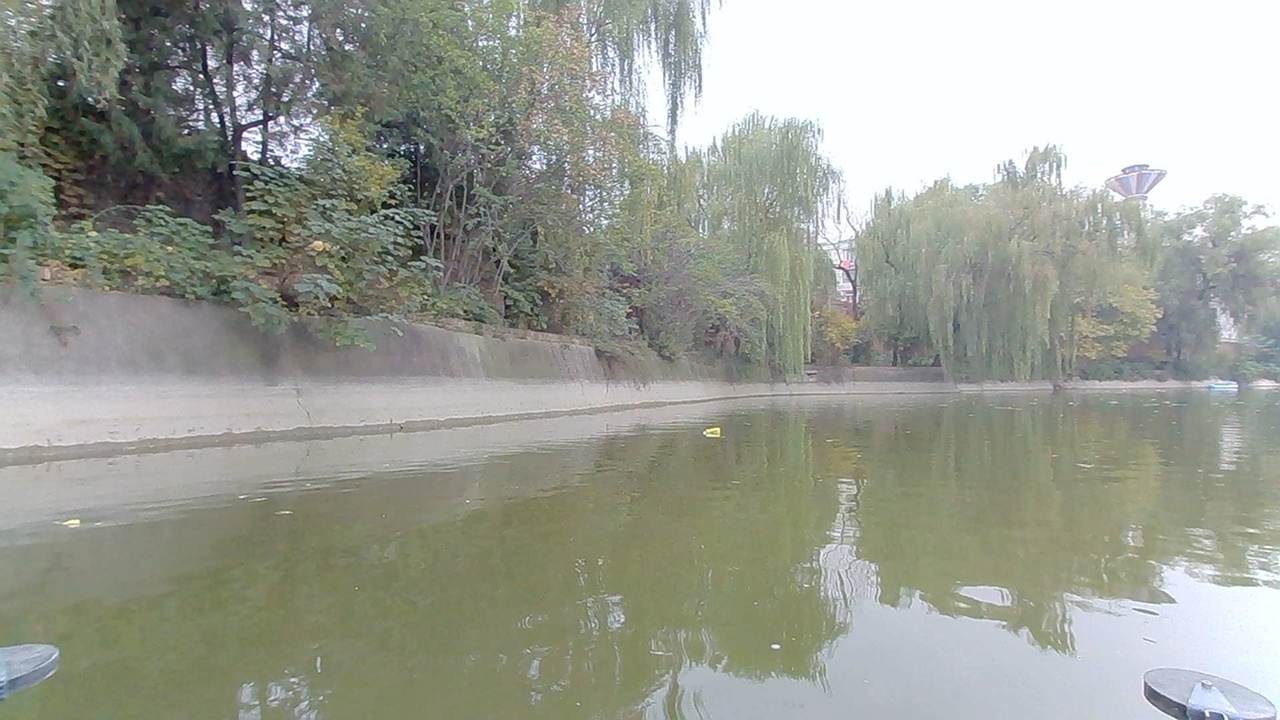bottle: (698, 421, 732, 444)
